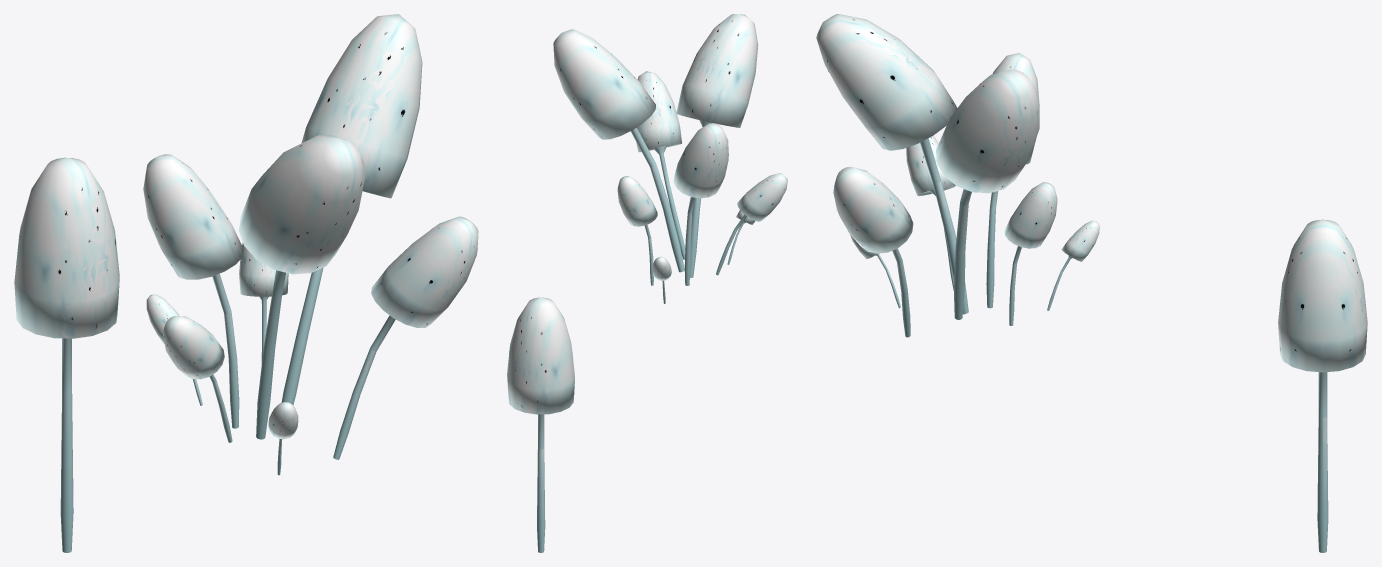
File: NightShroom.fbx
The picture shows the model from 3 angles, left to right: view 1: azimuth 30°, elevation 25°; view 2: azimuth 150°, elevation 25°; view 3: azimuth 270°, elevation 25°; orthographic projection. The views are drawn at different scales.
Visible parts, largest first — view 1: Sphere.001, Sphere; view 2: Sphere.001, Sphere; view 3: Sphere.001, Sphere.
Boxes of the visible parts, box(x1,y1,x2,y2) form: Sphere.001: box(143, 14, 478, 475); Sphere: box(14, 157, 119, 552); Sphere.001: box(553, 14, 787, 303); Sphere: box(507, 297, 574, 552); Sphere.001: box(816, 14, 1099, 337); Sphere: box(1278, 219, 1367, 552).
Size of the model in its own units: 668 by 1341 by 1250.
